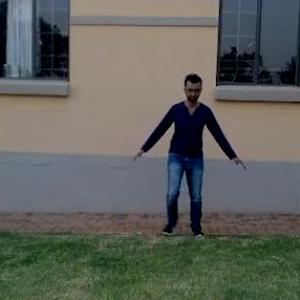land: (127, 72, 255, 241)
